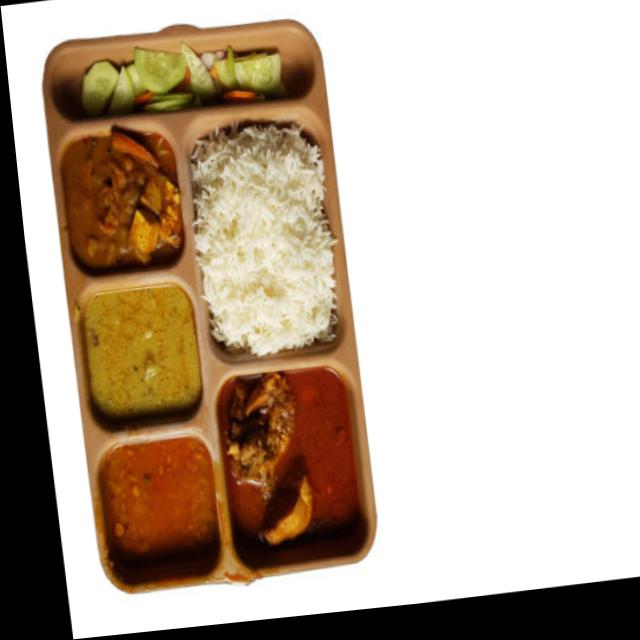DAL: (103, 436, 215, 571)
FISH CURRY: (221, 375, 346, 545)
KURMA: (80, 289, 196, 411)
RICE: (196, 137, 321, 356)
VEGGIES: (63, 142, 180, 273)
